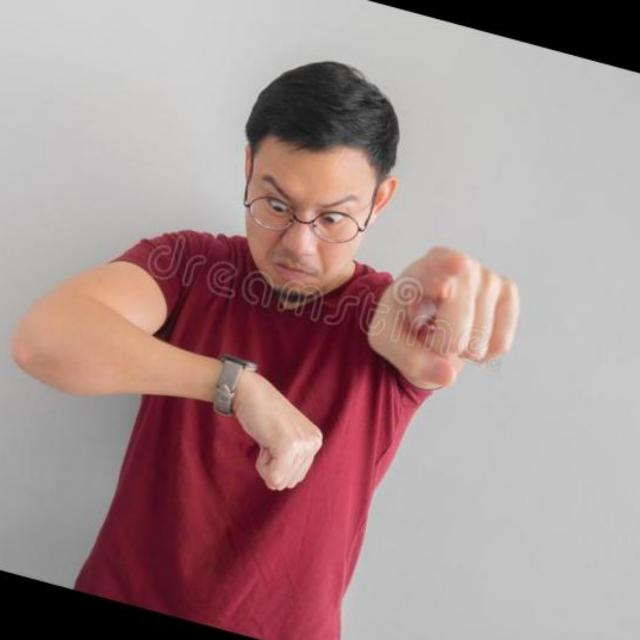Angry: (208, 43, 421, 325)
